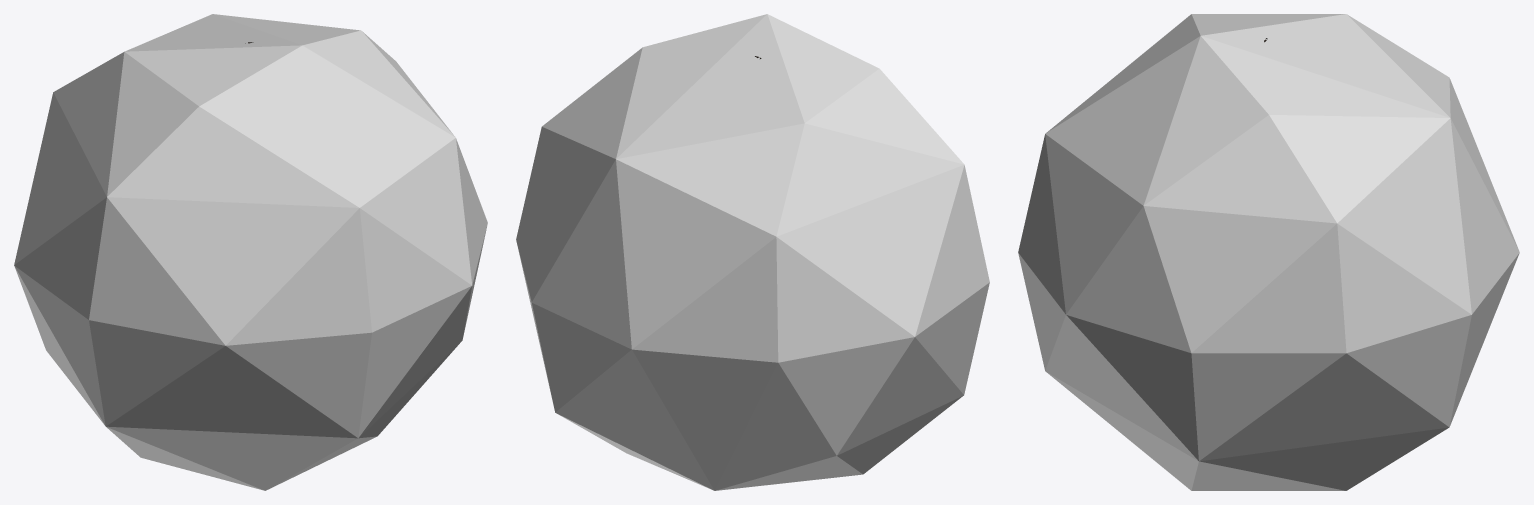
The model's file is fan09.glb.
3 renders of one model, left to right at view 1: azimuth 30°, elevation 25°; view 2: azimuth 150°, elevation 25°; view 3: azimuth 270°, elevation 25°, orthographic. The views are drawn at different scales.
Visible parts, largest first — view 1: material_proxy; view 2: material_proxy; view 3: material_proxy.
Part boxes in pixels (x1,y1,x2,y2): material_proxy: (14, 14, 487, 490); material_proxy: (516, 14, 989, 490); material_proxy: (1018, 14, 1519, 490).
Size of the model in its own units: 1.9 by 1.99 by 2.
Materials: 1 (1 with a texture image).
